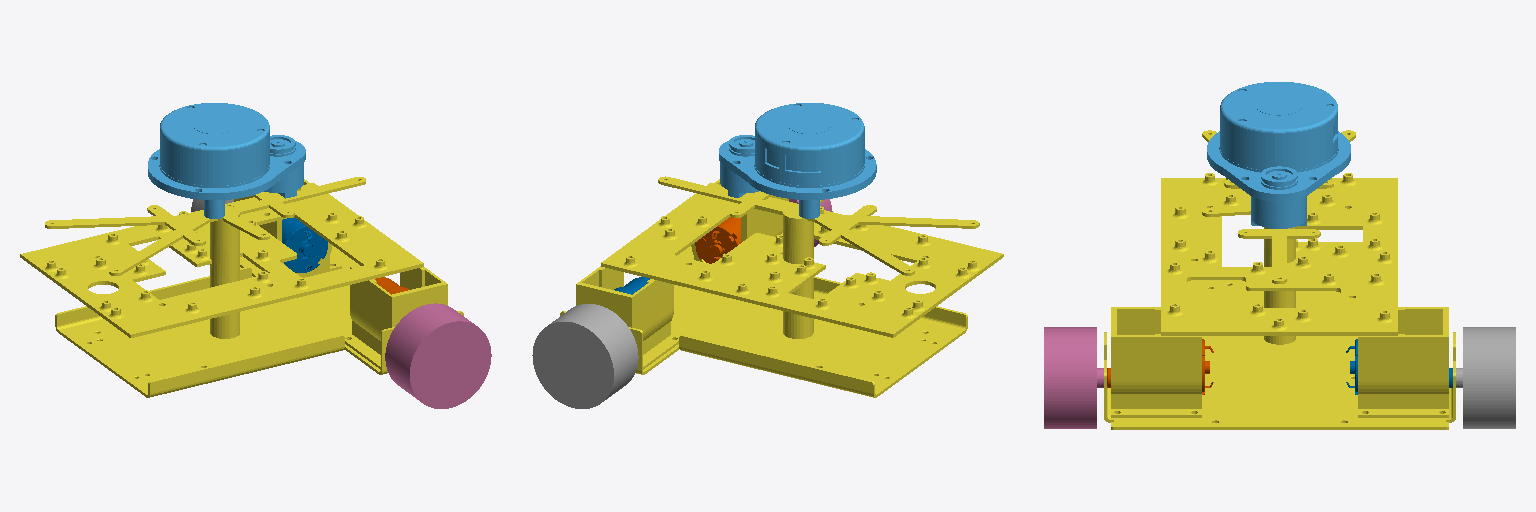
robot.urdf — robotassembly_1_back:
<?xml version='1.0' encoding='utf-8'?> 
<robot name="robotassembly_1_back"> 
    <link name="base_footprint" /> 
    <link name="lidar_link"> 
        <inertial> 
            <origin xyz="0.00015440202932244464 -0.0065620385299784935 -0.04185367413520978" rpy="0.0 -0.0 0.0" /> 
            <mass value="1.2633173769153754" /> 
            <inertia ixx="0.000908075615510668" iyy="0.0005749447965669693" izz="0.0010693282911537476" ixy="-2.1548862294420028e-06" iyz="0.00014759832310927304" ixz="1.7052572358954195e-06" /> 
        </inertial> 
        <visual name="lidar_link_visual"> 
            <origin xyz="-0.0005000000000000555 -0.025500000000000043 0.07049999999999998" rpy="-3.1415926535897927 -0.0 0.0" /> 
            <geometry> 
                <mesh filename="package://manta_bot/meshes/lidar_link.stl" scale="0.001 0.001 0.001" /> 
            </geometry> 
        </visual> 
        <collision name="lidar_link_collision"> 
            <origin xyz="-0.0005000000000000555 -0.025500000000000043 0.07049999999999998" rpy="-3.1415926535897927 -0.0 0.0" /> 
            <geometry> 
                <mesh filename="package://manta_bot/meshes/lidar_link.stl" scale="0.001 0.001 0.001" /> 
            </geometry> 
        </collision> 
    </link> 

    <link name="laser_frame" />

    <link name="base_link"> 
        <inertial> 
            <origin xyz="-0.0005076972341926869 0.014314030630268343 0.011970132819396764" rpy="0.0 0.0 0.0" /> 
            <mass value="1.7931358002694335" /> 
            <inertia ixx="0.008196158089978147" iyy="0.0066773805248528904" izz="0.012459279844548692" ixy="2.0511076616401395e-06" iyz="0.0008834065234856804" ixz="1.9756875760289105e-05" /> 
        </inertial> 
        <visual name="base_link_visual"> 
            <origin xyz="0.0 0.0 0.0" rpy="0.0 0.0 0.0" /> 
            <geometry> 
                <mesh filename="package://manta_bot/meshes/base_link.stl" scale="0.001 0.001 0.001" /> 
            </geometry> 
        </visual> 
        <collision name="base_link_collision"> 
            <origin xyz="0.0 0.0 0.0" rpy="0.0 0.0 0.0" /> 
            <geometry> 
                <mesh filename="package://manta_bot/meshes/base_link.stl" scale="0.001 0.001 0.001" /> 
            </geometry> 
        </collision> 
    </link> 
    <link name="motor_left_1"> 
        <inertial> 
            <origin xyz="-0.0006362127421936681 5.489180224467205e-06 -0.023584074177749787" rpy="0.0 -0.0 0.0" /> 
            <mass value="0.1340810398508418" /> 
            <inertia ixx="6.162333327173163e-05" iyy="6.213756663175918e-05" izz="2.3227934704746775e-05" ixy="-3.1696205792720837e-09" iyz="2.851906472778489e-09" ixz="2.3255520570570575e-06" /> 
        </inertial> 
        <visual name="motor_left_1_visual"> 
            <origin xyz="-0.0063733600000000085 -0.06750000000000007 -0.09599999999999995" rpy="-0.0 1.570796326794896 0" /> 
            <geometry> 
                <mesh filename="package://manta_bot/meshes/motor_left_1.stl" scale="0.001 0.001 0.001" /> 
            </geometry> 
        </visual> 
        <collision name="motor_left_1_collision"> 
            <origin xyz="-0.0063733600000000085 -0.06750000000000007 -0.09599999999999995" rpy="-0.0 1.570796326794896 0" /> 
            <geometry> 
                <mesh filename="package://manta_bot/meshes/motor_left_1.stl" scale="0.001 0.001 0.001" /> 
            </geometry> 
        </collision> 
    </link> 
    <link name="motor_right_1"> 
        <inertial> 
            <origin xyz="-0.0006362047414121897 5.485242672920165e-06 -0.023584073737024785" rpy="0.0 -0.0 0.0" /> 
            <mass value="0.13408104001880694" /> 
            <inertia ixx="6.162333309657768e-05" iyy="6.21375665391669e-05" izz="2.3227934719583547e-05" ixy="-3.1710300486894357e-09" iyz="2.8343180009722656e-09" ixz="2.3255520760948766e-06" /> 
        </inertial> 
        <visual name="motor_right_1_visual"> 
            <origin xyz="-0.006396029999999886 0.06749805999999993 -0.09600000000000006" rpy="-3.141592653589793 -1.5707963267948952 0" /> 
            <geometry> 
                <mesh filename="package://manta_bot/meshes/motor_right_1.stl" scale="0.001 0.001 0.001" /> 
            </geometry> 
        </visual> 
        <collision name="motor_right_1_collision"> 
            <origin xyz="-0.006396029999999886 0.06749805999999993 -0.09600000000000006" rpy="-3.141592653589793 -1.5707963267948952 0" /> 
            <geometry> 
                <mesh filename="package://manta_bot/meshes/motor_right_1.stl" scale="0.001 0.001 0.001" /> 
            </geometry> 
        </collision> 
    </link> 
    <link name="wheel_right_1"> 
        <inertial> 
            <origin xyz="4.240722671494668e-09 -2.1337818800759577e-09 0.021417095115681004" rpy="0.0 -0.0 0.0" /> 
            <mass value="0.690719357277638" /> 
            <inertia ixx="0.0002111188473839752" iyy="0.0002111188473948155" izz="0.00030970906018714956" ixy="-5.082197683525809e-20" iyz="1.0069039990052151e-16" ixz="1.5739499283699238e-19" /> 
        </inertial> 
        <visual name="wheel_right_1_visual"> 
            <origin xyz="0.0006039700000001219 0.06749805999999993 -0.10200000000000005" rpy="-3.141592653589793 -1.5707963267948952 0" /> 
            <geometry> 
                <mesh filename="package://manta_bot/meshes/wheel_right_1.stl" scale="0.001 0.001 0.001" /> 
            </geometry> 
        </visual> 
        <collision name="wheel_right_1_collision"> 
            <origin xyz="0.0006039700000001219 0.06749805999999993 -0.10200000000000005" rpy="-3.141592653589793 -1.5707963267948952 0" /> 
            <geometry> 
                <mesh filename="package://manta_bot/meshes/wheel_right_1.stl" scale="0.001 0.001 0.001" /> 
            </geometry> 
        </collision> 
    </link> 
    <link name="wheel_left_1"> 
        <inertial> 
            <origin xyz="-3.6576842633861963e-09 -5.74296166178101e-14 0.021417095115681094" rpy="0.0 -0.0 0.0" /> 
            <mass value="0.6907193572776398" /> 
            <inertia ixx="0.00021111884744365317" iyy="0.00021111884737491302" izz="0.0003097090602269376" ixy="1.8024861117571504e-18" iyz="-1.2074453477412487e-17" ixz="-9.65521154413386e-19" /> 
        </inertial> 
        <visual name="wheel_left_1_visual"> 
            <origin xyz="0.0006266399999999918 -0.06750000000000007 -0.10199999999999994" rpy="-0.0 1.570796326794896 0" /> 
            <geometry> 
                <mesh filename="package://manta_bot/meshes/wheel_left_1.stl" scale="0.001 0.001 0.001" /> 
            </geometry> 
        </visual> 
        <collision name="wheel_left_1_collision"> 
            <origin xyz="0.0006266399999999918 -0.06750000000000007 -0.10199999999999994" rpy="-0.0 1.570796326794896 0" /> 
            <geometry> 
                <mesh filename="package://manta_bot/meshes/wheel_left_1.stl" scale="0.001 0.001 0.001" /> 
            </geometry> 
        </collision> 
    </link> 
    <joint name="base_footprint_to_base_link" type="fixed"> 
        <origin xyz="0 0 0" rpy="0 0 -1.5707963267948966" /> 
        <parent link="base_footprint" /> 
        <child link="base_link" /> 
    </joint> 
    <joint name="base_link_motor_left_to_base_link" type="fixed"> 
        <origin xyz="-0.096 0.0675 0.006373360000000001" rpy="6.959195283221548e-16 -1.5707963267948966 0" /> 
        <parent link="base_link" /> 
        <child link="motor_left_1" /> 
    </joint> 
    <joint name="base_link_motor_right_to_base_link" type="fixed"> 
        <origin xyz="0.096 0.06749806000000001 0.0063960300000000005" rpy="-3.1415926535897927 -1.5707963267948966 0" /> 
        <parent link="base_link" /> 
        <child link="motor_right_1" /> 
    </joint> 
    <joint name="motor_right_1_wheel_right_to_motor_right" type="continuous"> 
        <origin xyz="-0.007000000000000007 8.881784197001253e-18 0.005999999999999997" rpy="-1.9721522630525295e-31 -0.0 0.0" /> 
        <parent link="motor_right_1" /> 
        <child link="wheel_right_1" /> 
        <axis xyz="0.0 7.753132050511999e-16 1.0" /> 
    </joint> 
    <joint name="motor_left_1_wheel_left_to_motor_left" type="continuous"> 
        <origin xyz="-0.006999999999999999 0.0 0.005999999999999997" rpy="0.0 -0.0 0.0" /> 
        <parent link="motor_left_1" /> 
        <child link="wheel_left_1" /> 
        <axis xyz="-0.0 6.959195283221548e-16 1.0" /> 
    </joint> 
    <joint name="base_link_lidar_link_to_base_link" type="fixed"> 
        <origin xyz="0.0005 -0.0255 0.0705" rpy="3.1415926535897927 -0.0 0" /> 
        <parent link="base_link" /> 
        <child link="lidar_link" /> 
    </joint> 

    <joint name="laser_frame_joint" type="fixed"> 
        <origin xyz="0 0 0" rpy="3.1415926535897927 0 -1.5707963267948966" /> 
        <parent link="lidar_link" /> 
        <child link="laser_frame" /> 
    </joint> 

    <ros2_control name="MantaHardware" type="system">
        <hardware>
            <plugin>manta_hardware/MantaHardware</plugin>
            <param name="serial_port">/dev/ttyAMA0</param>
        </hardware>
        <joint name="motor_left_1_wheel_left_to_motor_left">
            <command_interface name="velocity"/>
            <state_interface name="velocity"/>
            <state_interface name="position"/>
        </joint>
        <joint name="motor_right_1_wheel_right_to_motor_right">
            <command_interface name="velocity"/>
            <state_interface name="velocity"/>
            <state_interface name="position"/>
        </joint>
    </ros2_control>
</robot>

--- Facts derived from the render (not from the file) ---
3 views of the same robot in one strip: view 1: azimuth 30°, elevation 25°; view 2: azimuth 150°, elevation 25°; view 3: azimuth 270°, elevation 25° (orthographic).
Robot: robotassembly_1_back — 8 links, 7 joints (2 continuous, 5 fixed); root link base_footprint; default pose: every joint at zero.
Visible links, largest first — view 1: base_link, lidar_link, wheel_right_1, motor_left_1; view 2: base_link, lidar_link, wheel_left_1, motor_right_1; view 3: base_link, lidar_link, wheel_right_1, wheel_left_1.
Boxes of the visible links, bbox=[...] form: base_link: bbox=[20, 177, 463, 397]; lidar_link: bbox=[148, 103, 305, 218]; wheel_right_1: bbox=[385, 303, 491, 408]; motor_left_1: bbox=[282, 218, 327, 272]; base_link: bbox=[560, 176, 1003, 397]; lidar_link: bbox=[719, 103, 876, 218]; wheel_left_1: bbox=[532, 304, 638, 408]; motor_right_1: bbox=[695, 217, 740, 263]; base_link: bbox=[1104, 130, 1455, 429]; lidar_link: bbox=[1207, 82, 1350, 228]; wheel_right_1: bbox=[1044, 327, 1103, 428]; wheel_left_1: bbox=[1456, 327, 1515, 428].
Size in the robot's own frame: 0.235 by 0.278 by 0.1643 metres.
6 mesh visuals loaded from 6 distinct referenced files (6 binary STL).
